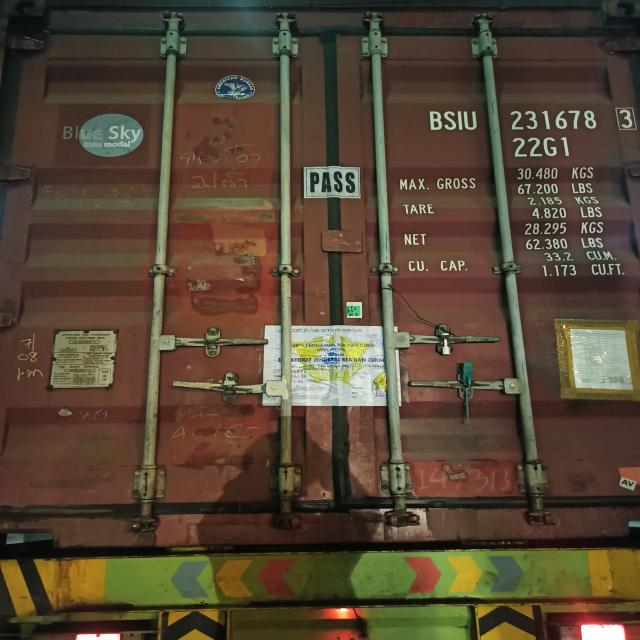seal: (456, 362, 478, 424), (438, 330, 454, 355)
